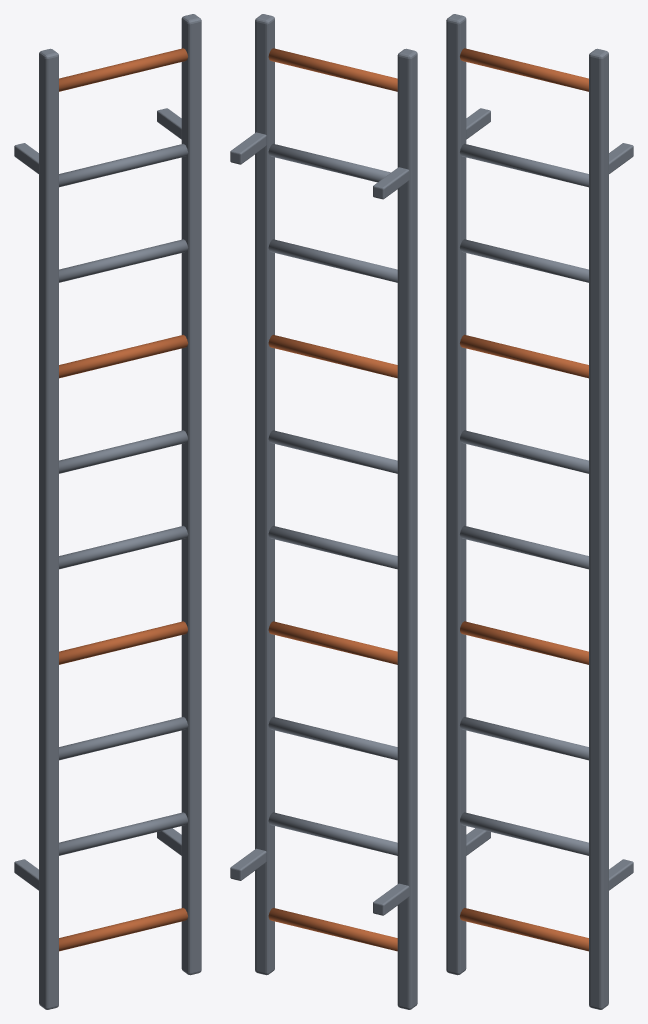
Rendered from Wall_Ladder.fbx.
The picture shows the model from 3 angles, left to right: view 1: azimuth 30°, elevation 25°; view 2: azimuth 150°, elevation 25°; view 3: azimuth 330°, elevation 25°; orthographic projection.
Visible parts, largest first — view 1: Wall_Ladder; view 2: Wall_Ladder; view 3: Wall_Ladder.
Part boxes in pixels (bbox=[...]): Wall_Ladder: bbox=[14, 14, 201, 1009]; Wall_Ladder: bbox=[230, 14, 417, 1009]; Wall_Ladder: bbox=[446, 14, 633, 1009].
Bounding box in the file's own units: 0.55 × 3.2 × 0.205.
